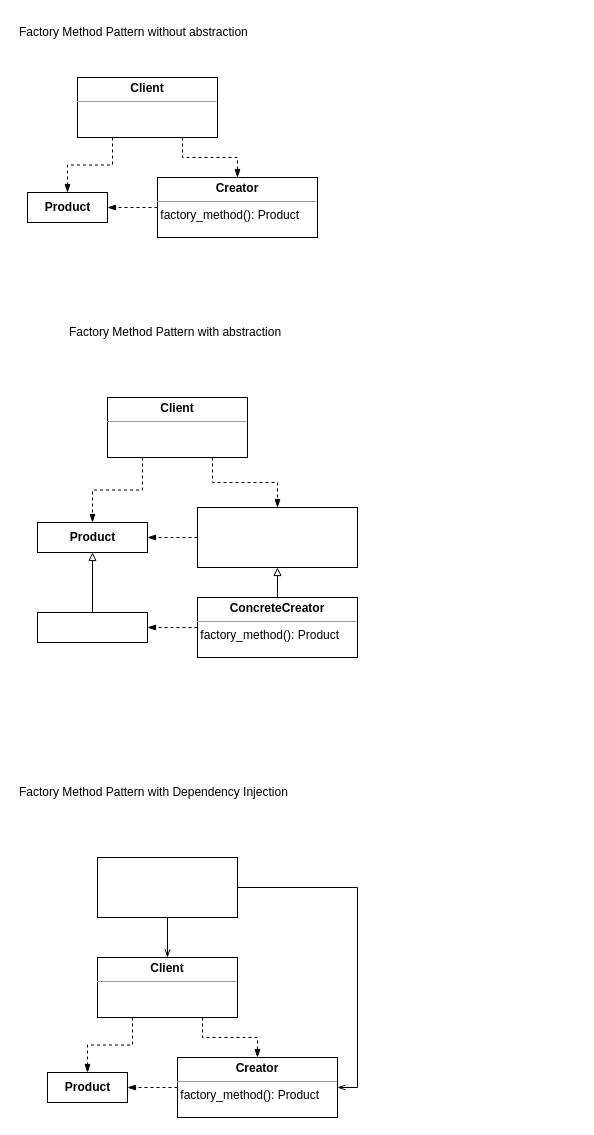
The diagram is 594 pixels wide and 1135 high, and some of its shapes have lost their labels. The shapes that lost their labels are listed below. From the top down, each one's centre as x and y in pixels, then its label:
At pixel 277 537: "Creator factory_method()".
At pixel 92 627: "ConcreteProduct".
At pixel 167 887: "Injector".
